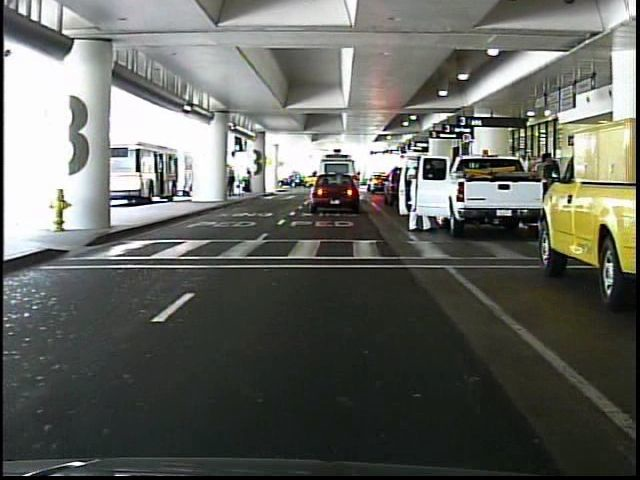person: (406, 149, 436, 235), (224, 163, 237, 198), (242, 165, 256, 195)
